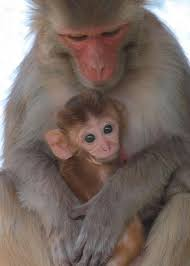monkey: (1, 0, 190, 235), (38, 98, 190, 253)
